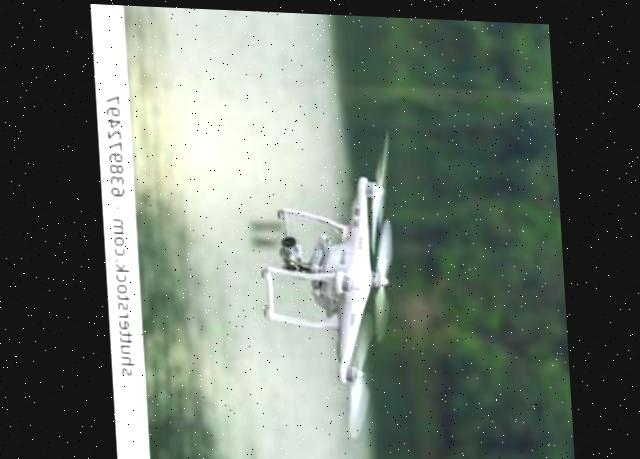drone: (230, 148, 443, 413)
